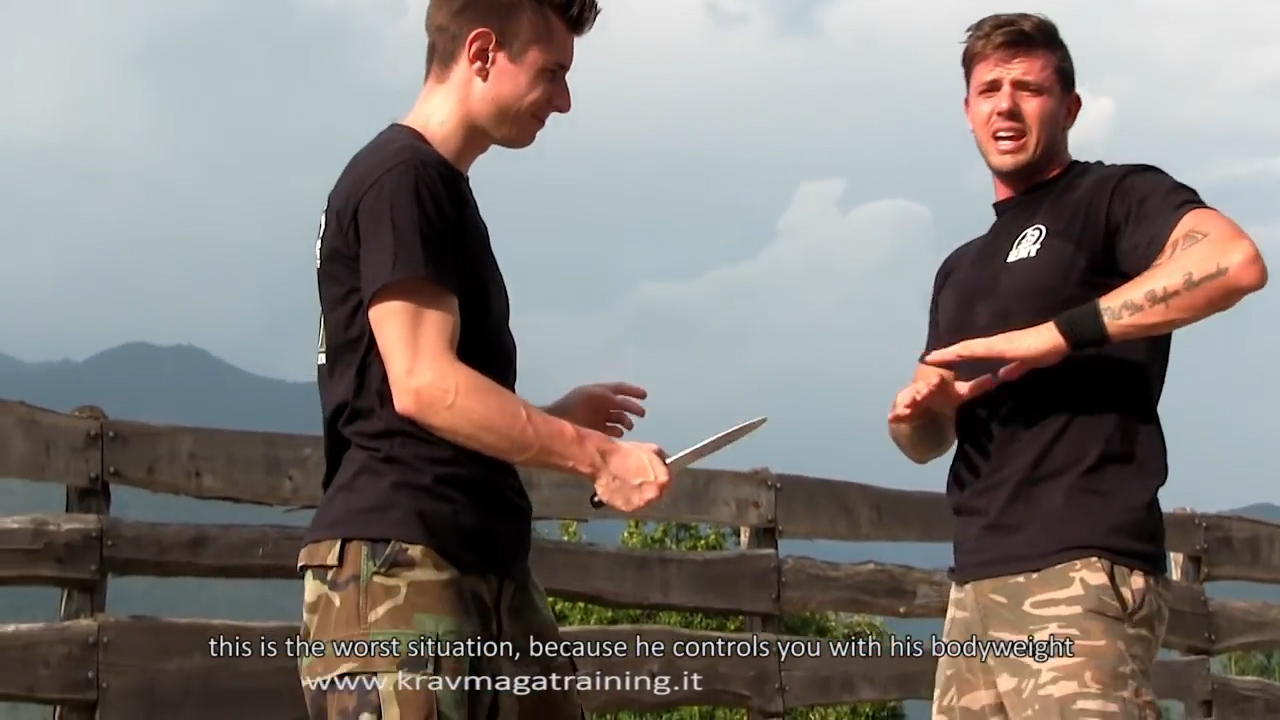knife: (584, 406, 780, 522)
